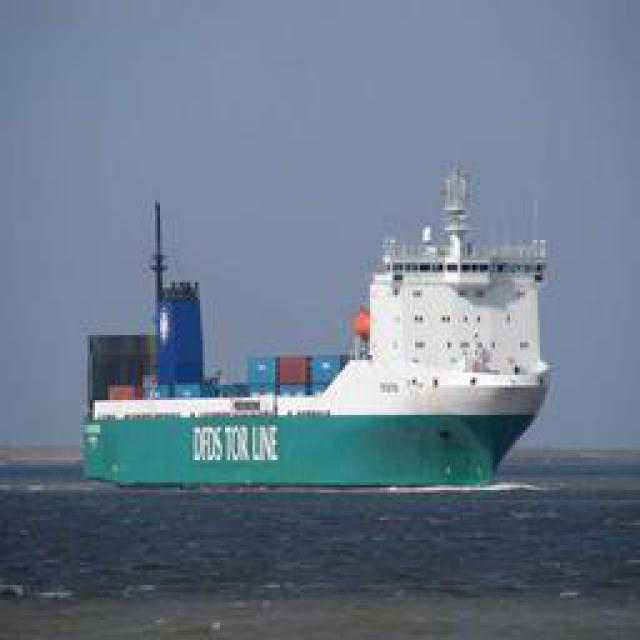Ship: (81, 156, 549, 484)
